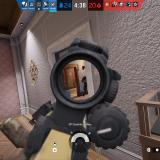Character: (81, 76, 89, 97)
Friend_label: (21, 104, 28, 109)
